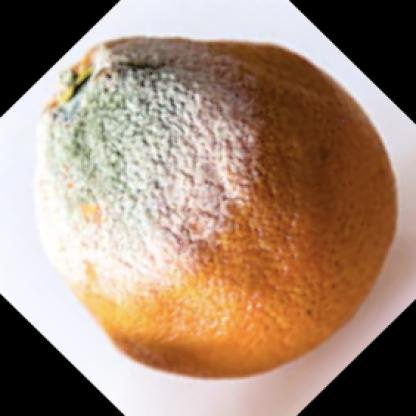rotten: (39, 36, 397, 382)
